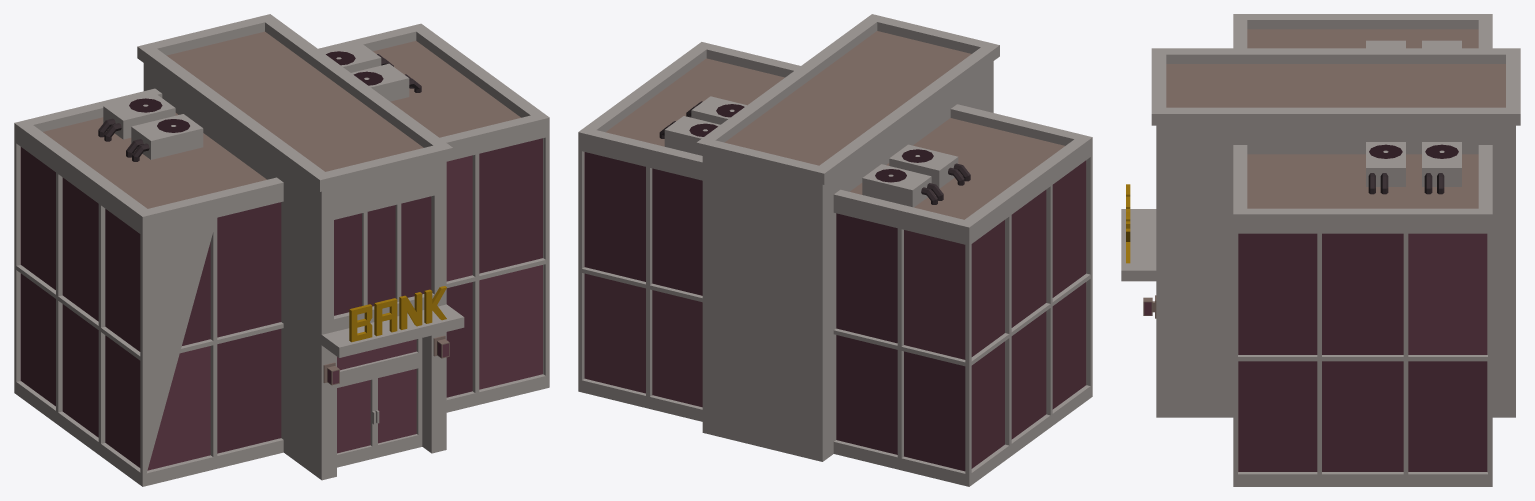
The model's file is Building_41.fbx.
3 views of the same model, side by side, from view 1: azimuth 30°, elevation 25°; view 2: azimuth 150°, elevation 25°; view 3: azimuth 270°, elevation 25° (orthographic). The views are drawn at different scales.
Parts seen in each view (by area): view 1: Building_41; view 2: Building_41; view 3: Building_41.
Part boxes in pixels (x1,y1,x2,y2): Building_41: (14,14,549,486); Building_41: (578,14,1092,486); Building_41: (1121,14,1520,486).
Size of the model in its own units: 14.18 by 10.08 by 11.94.
